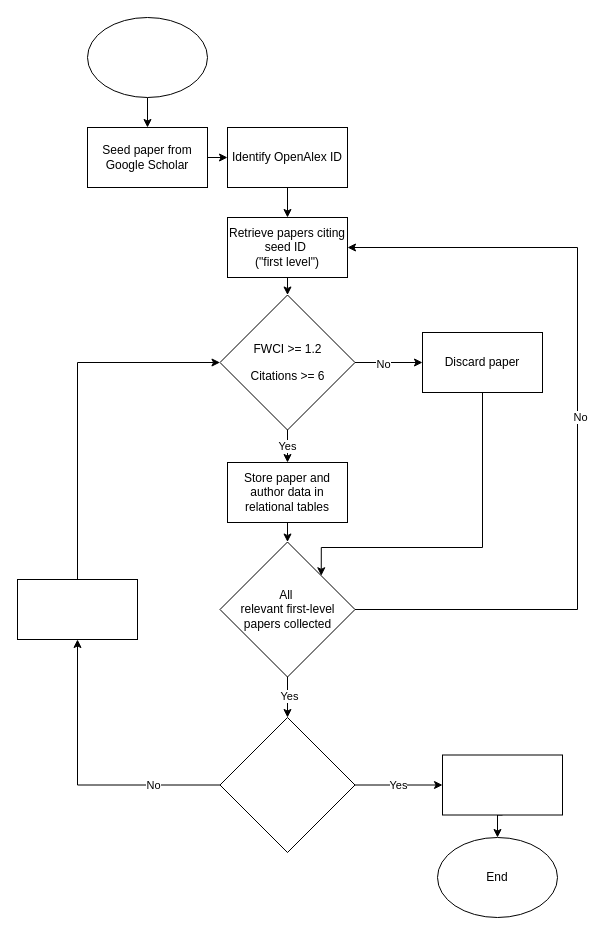
Image size: 604x935. Some labels were removed from this diagram. The shapes that lost their labels are listed below. From the top down, each one's centre as x and y in pixels, then its label:
the point at 147,57: Start
the point at 77,609: Retrieve papers citing first-level papers ("second level")
the point at 287,784: All relevant second-level papers collected
the point at 502,784: Relational tables output in Excel Workbook
